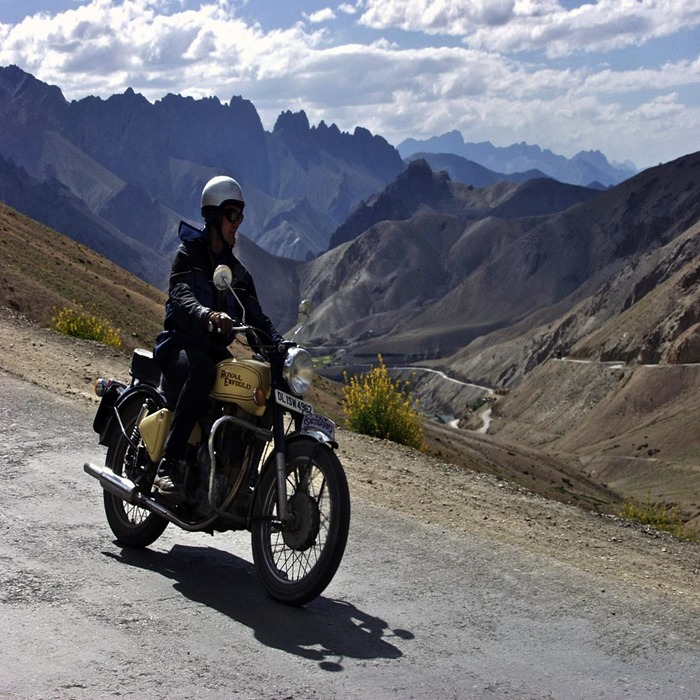h: (198, 171, 247, 225)
n: (272, 388, 315, 419)
